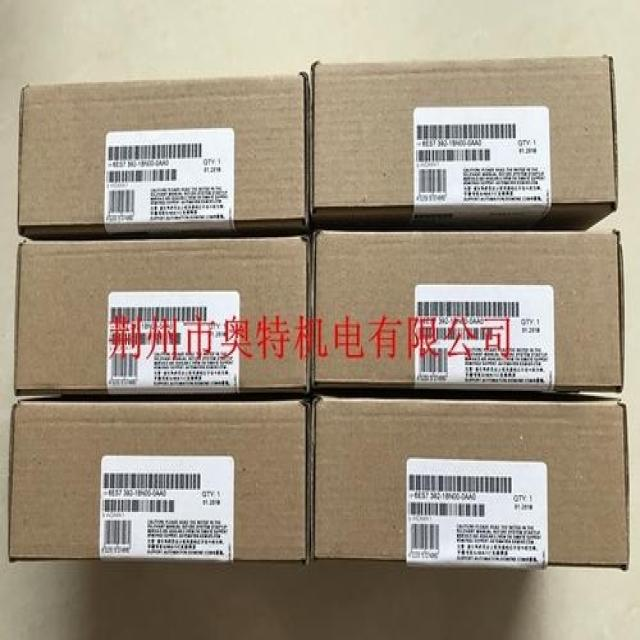box: (312, 398, 628, 568), (312, 58, 616, 229), (313, 231, 621, 392), (10, 402, 309, 564), (15, 237, 309, 392), (21, 73, 307, 230)
